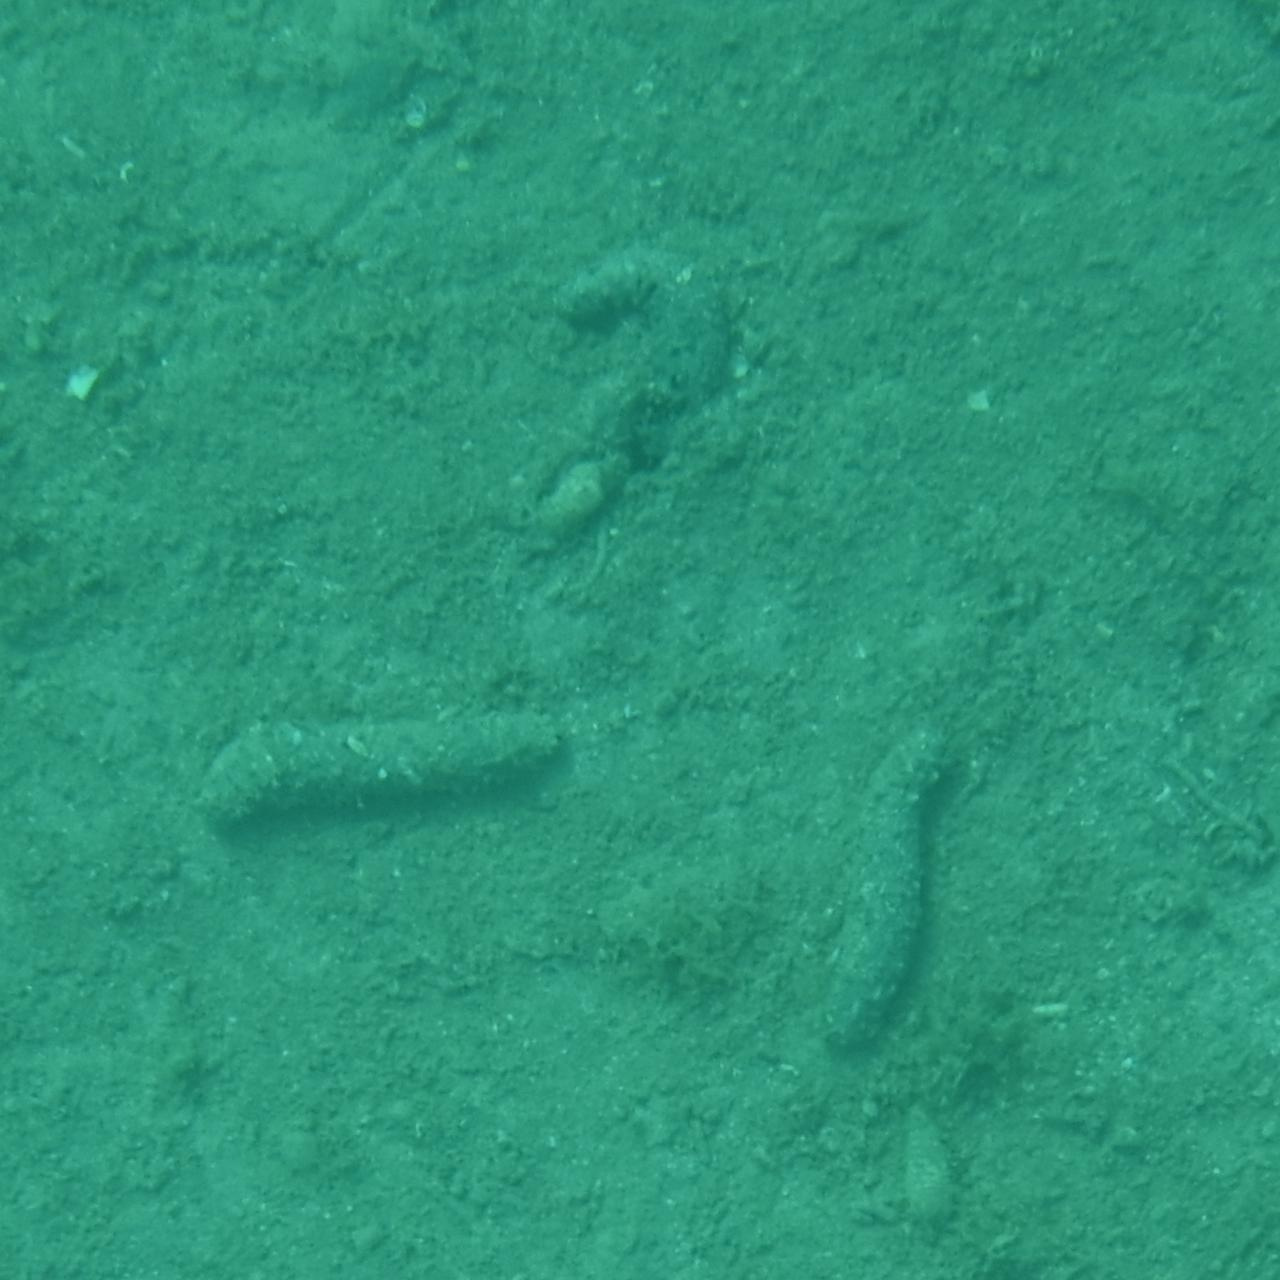Holothuria tubulosa: (484, 224, 758, 550), (803, 715, 996, 1070), (182, 695, 578, 821)
